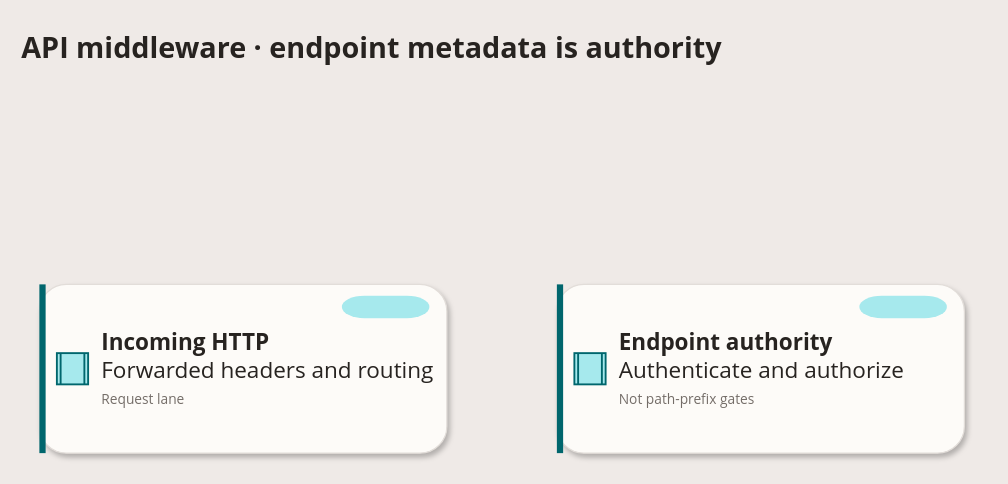
Some shapes in this 1008 by 484 pixel diagram are drawn without their labels. The centre of each missing label's shape, as x and y in pixels:
RESULT: the point at 902,306
SCOPE: the point at 385,306
